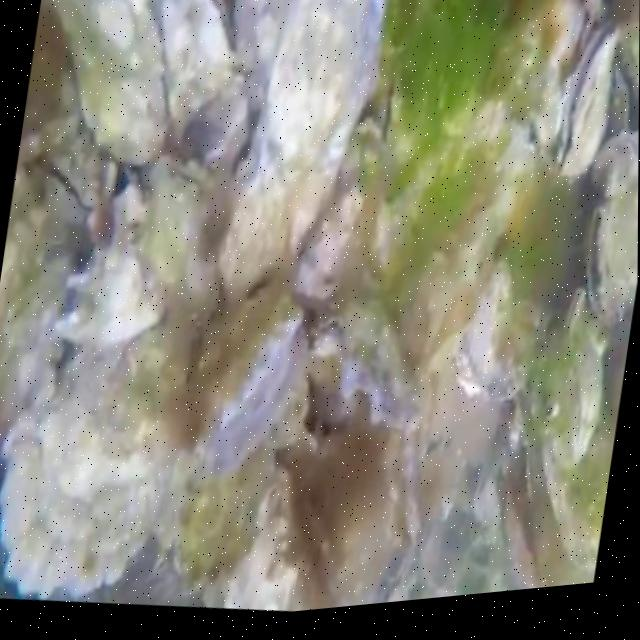Oyster-Closed: (381, 66, 484, 212), (579, 129, 639, 324), (561, 19, 618, 173)
Oyster-Indeterminate: (0, 319, 195, 600), (219, 0, 394, 299), (397, 107, 539, 362), (42, 0, 169, 157), (530, 398, 620, 574), (160, 0, 247, 171)
Oyster-Open: (182, 277, 303, 478), (294, 425, 422, 608), (310, 297, 421, 431), (218, 0, 302, 119), (40, 131, 110, 224), (609, 16, 639, 134)
